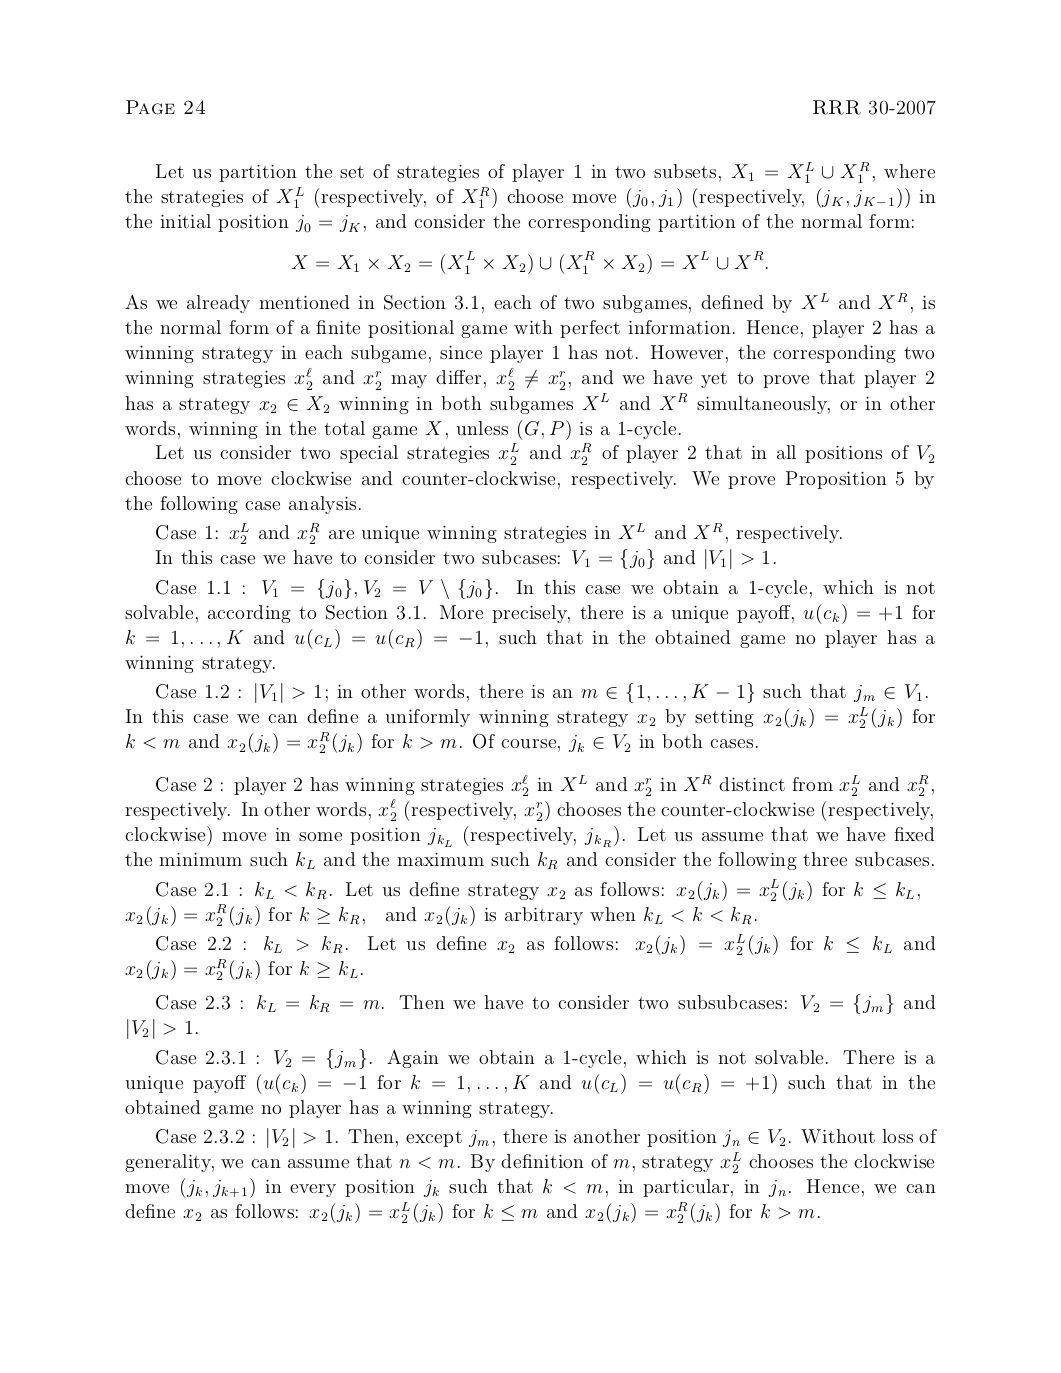formula: (291, 250, 767, 274)
